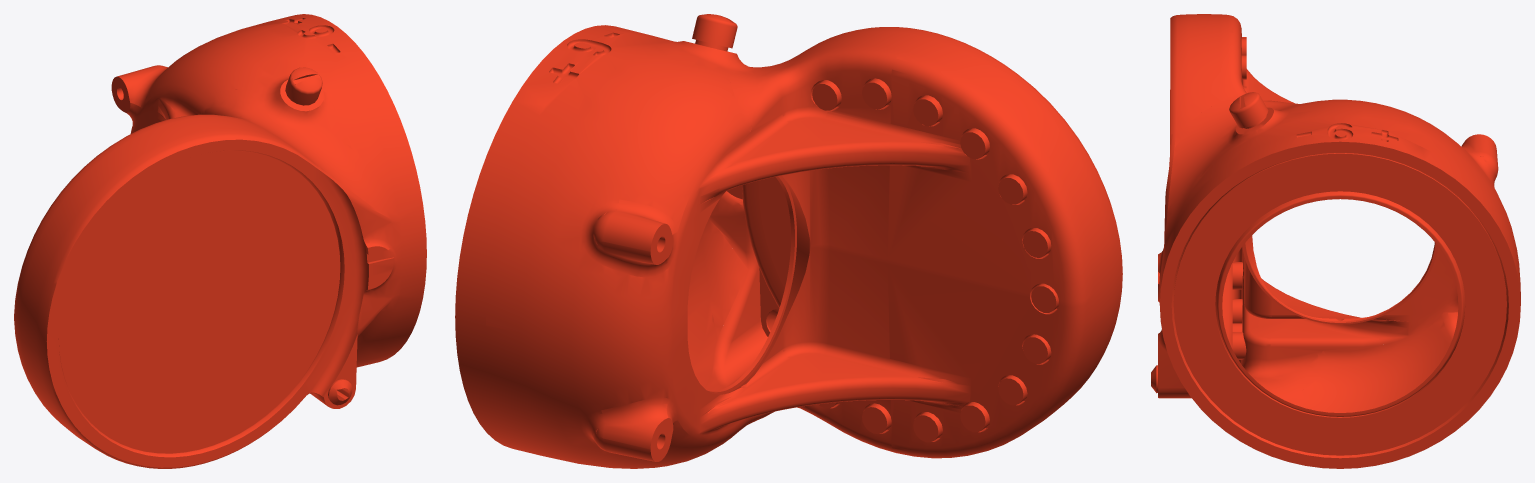
3 renders of one model, left to right at view 1: azimuth 30°, elevation 25°; view 2: azimuth 150°, elevation 25°; view 3: azimuth 270°, elevation 25°, orthographic. The views are drawn at different scales.
Parts seen in each view (by area): view 1: link_5; view 2: link_5; view 3: link_5.
Part boxes in pixels (box(x1,y1,x2,y2)): link_5: box(14, 14, 426, 468); link_5: box(455, 14, 1122, 468); link_5: box(1151, 14, 1520, 468).
Bounding box in the file's own units: 0.1272 × 0.1065 × 0.1073.
